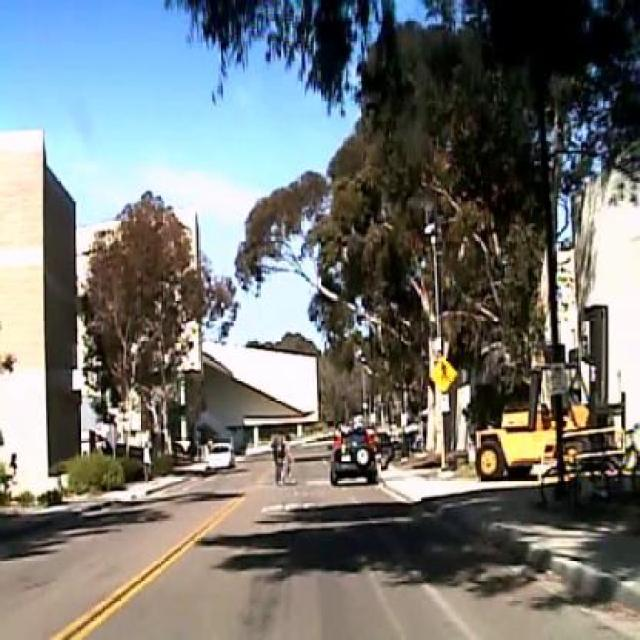pedestrianCrossing: (428, 354, 457, 391)
